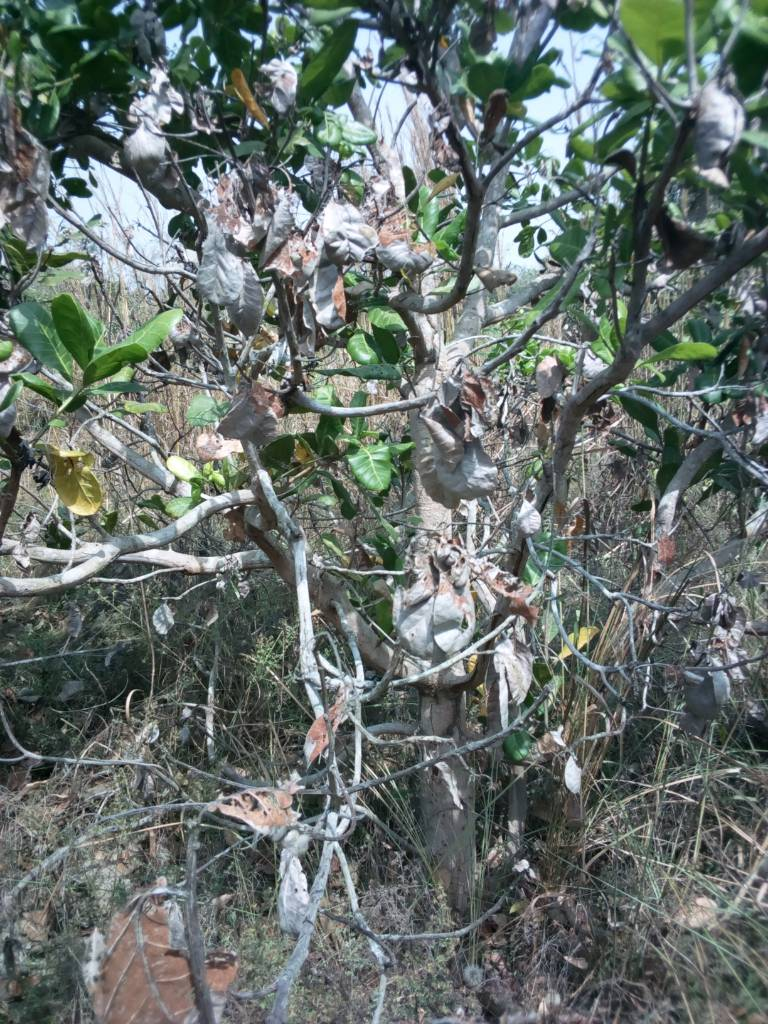Dessèchement des bourgeons: (391, 532, 497, 657), (413, 361, 499, 507)
